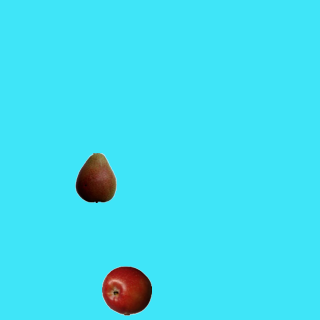Apple Braeburn: (101, 265, 151, 315)
Pear Forelle: (70, 152, 120, 202)
